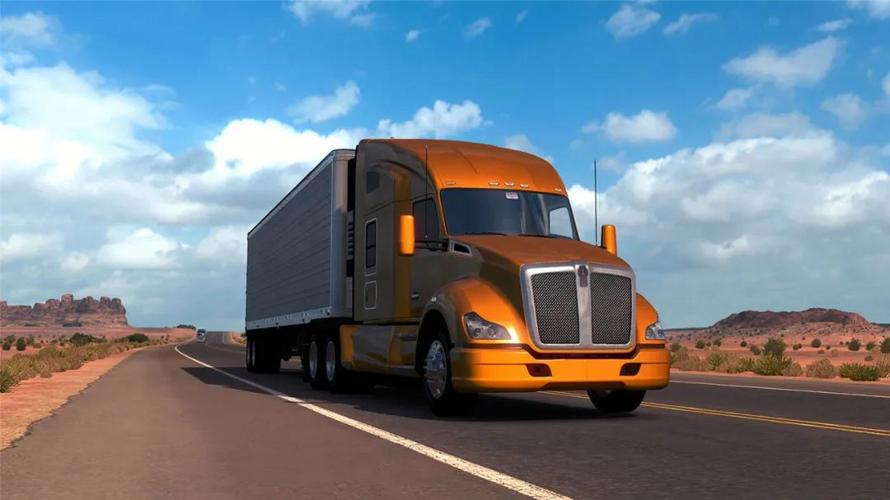卡车: (237, 134, 723, 417)
